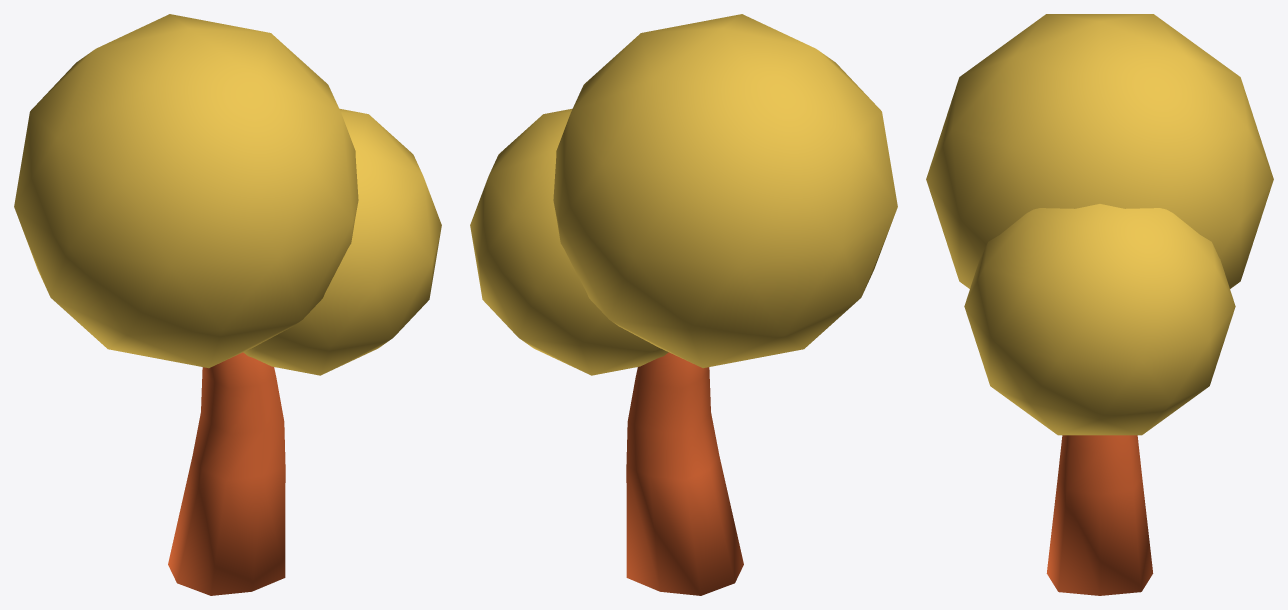
Rendered from Tree_002.fbx.
The picture shows the model from 3 angles, left to right: view 1: azimuth 30°, elevation 25°; view 2: azimuth 150°, elevation 25°; view 3: azimuth 270°, elevation 25°; orthographic projection. The views are drawn at different scales.
Visible parts, largest first — view 1: Tree_002; view 2: Tree_002; view 3: Tree_002.
Part boxes in pixels (left/top/right/bottom): Tree_002: left=14, top=14, right=441, bottom=595; Tree_002: left=470, top=14, right=897, bottom=595; Tree_002: left=926, top=14, right=1273, bottom=595.
Size of the model in its own units: 1018 by 1417 by 835.
